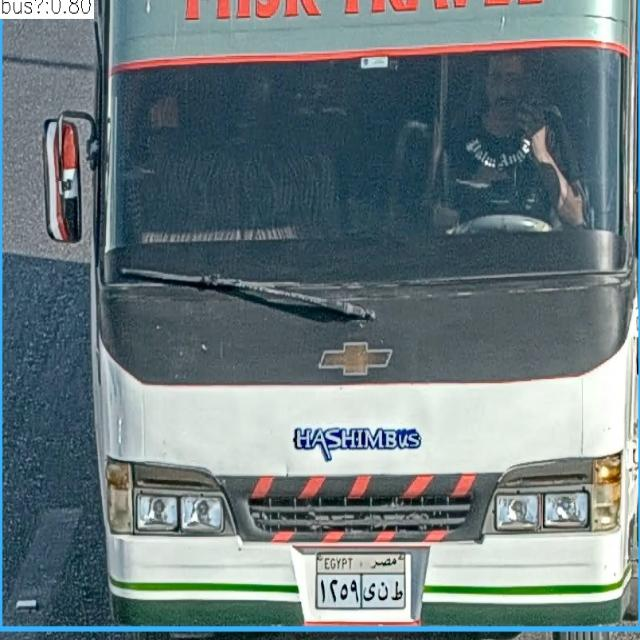windshield: (108, 46, 639, 263)
